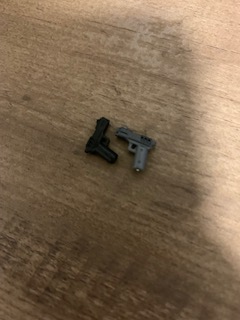pistol: (113, 124, 159, 175), (83, 114, 121, 167)
